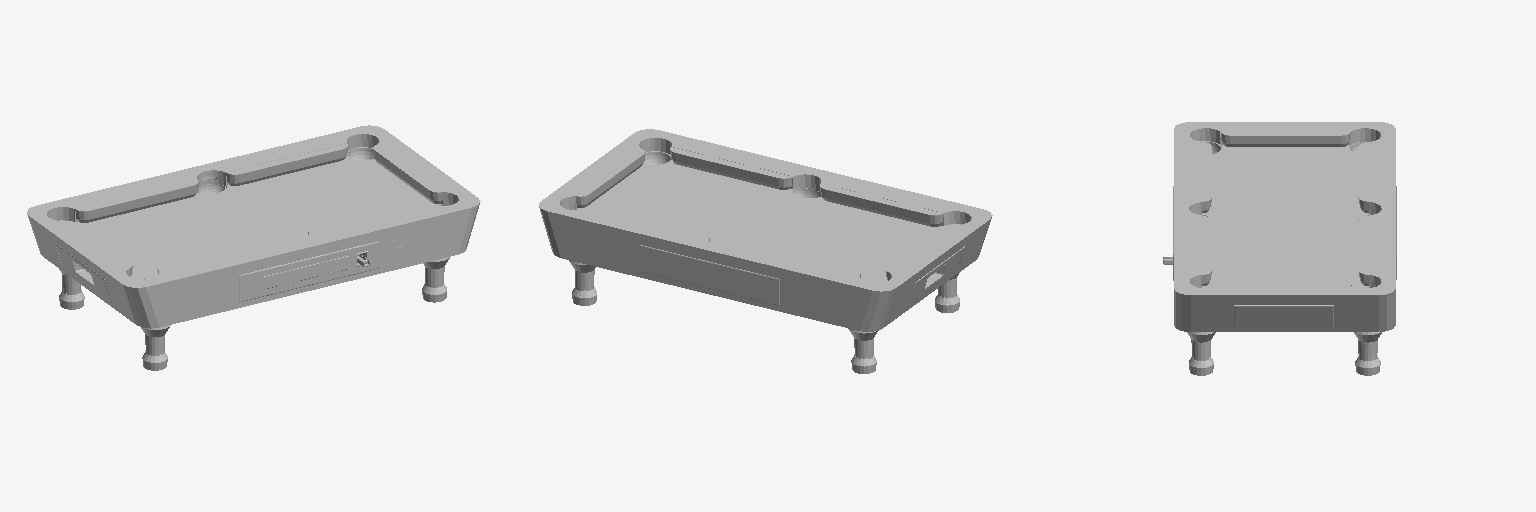
The model's file is agrvai.obj.
3 views of the same model, side by side, from view 1: azimuth 30°, elevation 25°; view 2: azimuth 150°, elevation 25°; view 3: azimuth 270°, elevation 25° (orthographic).
Parts seen in each view (by area): view 1: ChamferBox_0, Box001_7, ChamferBo4_5, ChamferBo5_6, ChamferBo1_1, Cylinder04_16, Box003_34, Cylinder07_16, Cylinder05_16, ChamferBo3_4, ChamferBo2_3, ChamferBo6_20 (+1 smaller); view 2: ChamferBox_0, Box001_7, ChamferBo3_4, ChamferBo2_3, ChamferBo1_1, Cylinder05_16, Cylinder06_16, Cylinder04_16, ChamferBo4_5, ChamferBo5_6, ChamferBo0_1; view 3: ChamferBox_0, Box001_7, ChamferBo0_1, Cylinder06_16, Cylinder07_16, ChamferBo4_5, ChamferBo3_4, ChamferBo5_6, ChamferBo2_3.
Part boxes in pixels (x1,y1,x2,y2): ChamferBox_0: (27, 125, 480, 328); Box001_7: (76, 156, 442, 278); ChamferBo4_5: (75, 179, 198, 222); ChamferBo5_6: (226, 143, 348, 185); ChamferBo1_1: (373, 144, 441, 203); Cylinder04_16: (141, 325, 170, 370); Box003_34: (265, 257, 346, 287); Cylinder07_16: (422, 257, 449, 302); Cylinder05_16: (59, 269, 84, 309); ChamferBo3_4: (157, 238, 280, 273); ChamferBo2_3: (308, 202, 428, 234); ChamferBo6_20: (239, 241, 379, 301); ChamferBox_0: (539, 129, 992, 331); Box001_7: (576, 160, 942, 282); ChamferBo3_4: (820, 183, 943, 226); ChamferBo2_3: (670, 147, 792, 189); ChamferBo1_1: (576, 149, 645, 207); Cylinder05_16: (848, 328, 878, 373); Cylinder06_16: (569, 260, 596, 305); Cylinder04_16: (935, 273, 959, 312); ChamferBo4_5: (738, 242, 860, 277); ChamferBo5_6: (589, 206, 710, 236); ChamferBo0_1: (886, 225, 954, 280); ChamferBox_0: (1174, 122, 1395, 331); Box001_7: (1202, 145, 1368, 287); ChamferBo0_1: (1221, 132, 1350, 146); Cylinder06_16: (1354, 332, 1381, 375); Cylinder07_16: (1187, 332, 1215, 375); ChamferBo4_5: (1358, 142, 1368, 212); ChamferBo3_4: (1202, 142, 1211, 212); ChamferBo5_6: (1359, 216, 1368, 285); ChamferBo2_3: (1202, 216, 1211, 285).
Size of the model in its own units: 12.1 by 3.1 by 6.87.